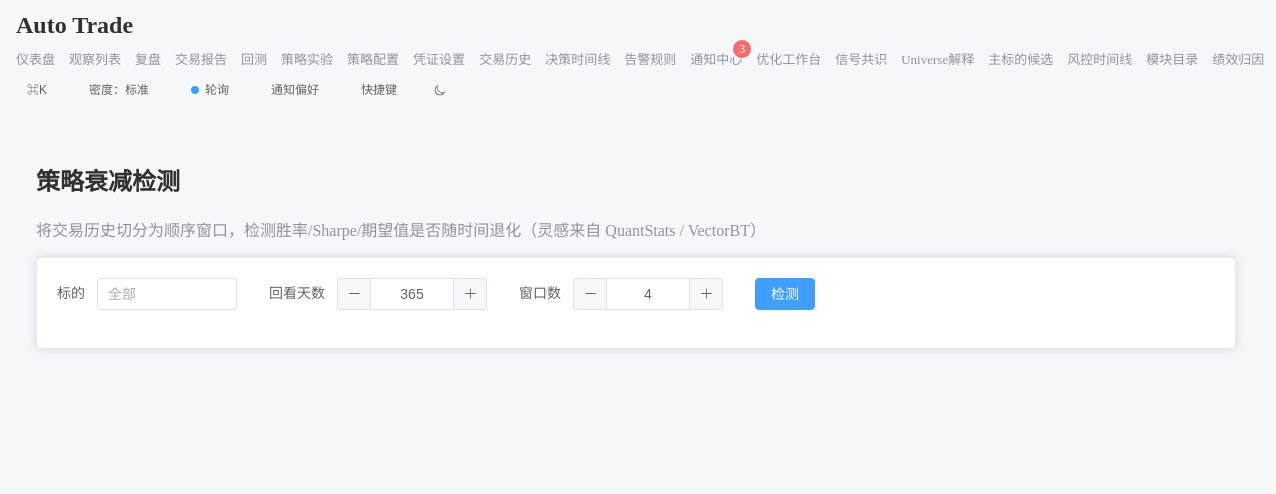
Test: Analytics panels expose FIFO evidence quality › decay-detection surfaces unresolved ledger evidence
The image size is (1276, 494).
Click the button "检测".
click(785, 294)  # box [755, 278, 815, 310]
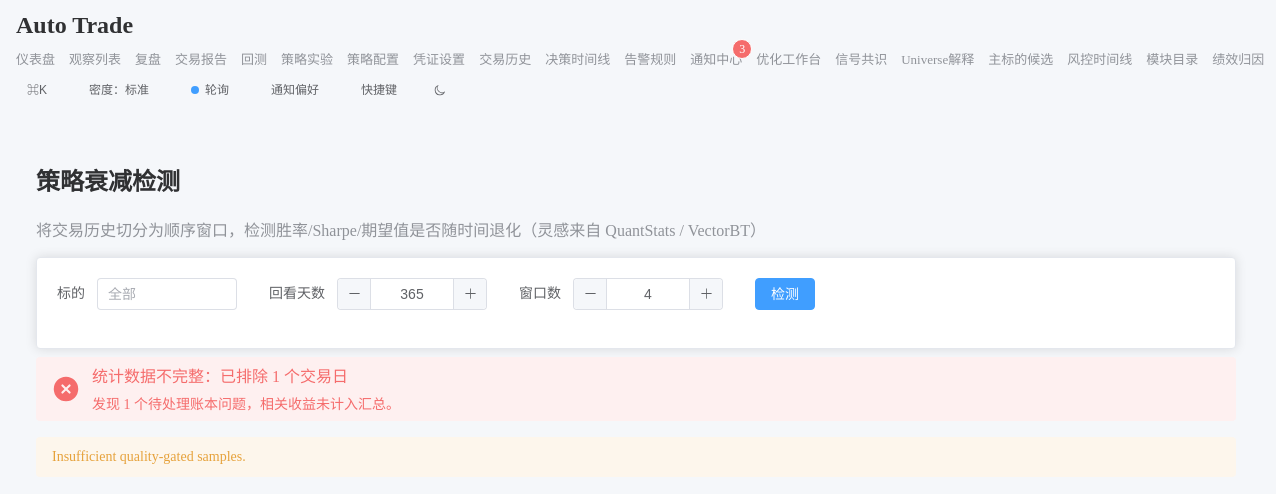
Now the text with test id "statistics-quality-alert" shows "已排除 1 个交易日", box [92, 368, 348, 385]
